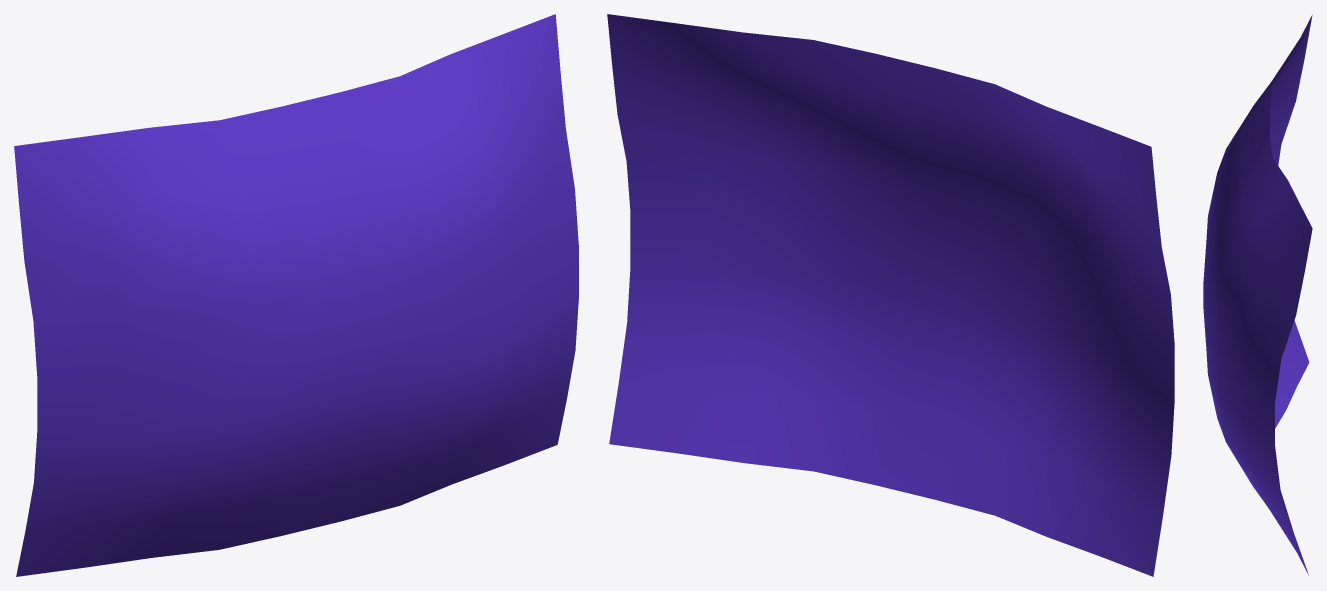
The model's file is TV_Screen.fbx.
3 views of the same model, side by side, from view 1: azimuth 30°, elevation 25°; view 2: azimuth 150°, elevation 25°; view 3: azimuth 270°, elevation 25° (orthographic). The views are drawn at different scales.
Visible parts, largest first — view 1: SM_Screen; view 2: SM_Screen; view 3: SM_Screen.
Boxes of the visible parts, x1,y1,x2,y2 form: SM_Screen: (14,14,578,576); SM_Screen: (607,14,1174,576); SM_Screen: (1203,15,1312,575).
Size of the model in its own units: 173 by 131 by 37.28.
